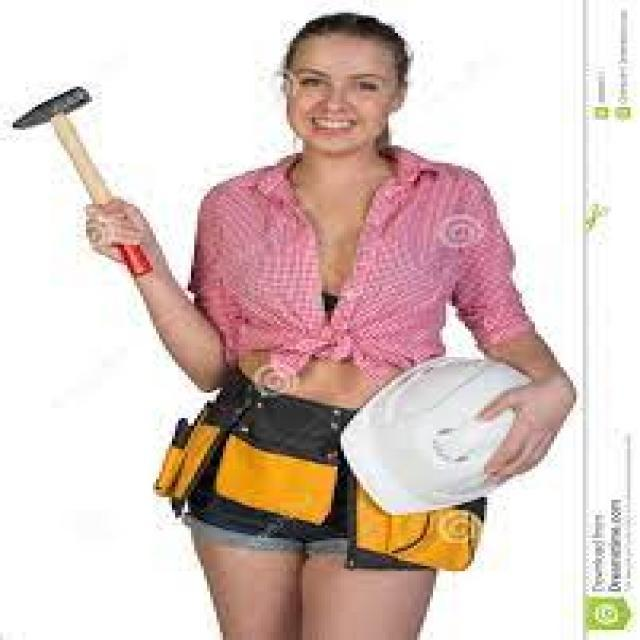hammer: (6, 78, 162, 282)
